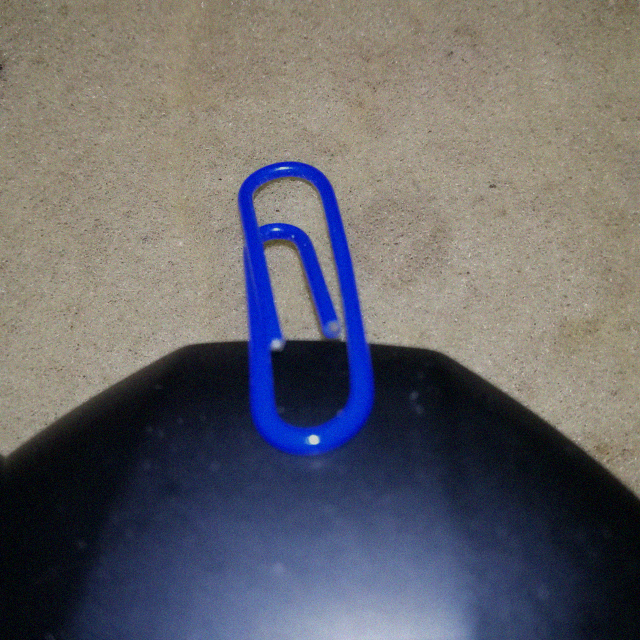pin: (237, 151, 372, 452)
